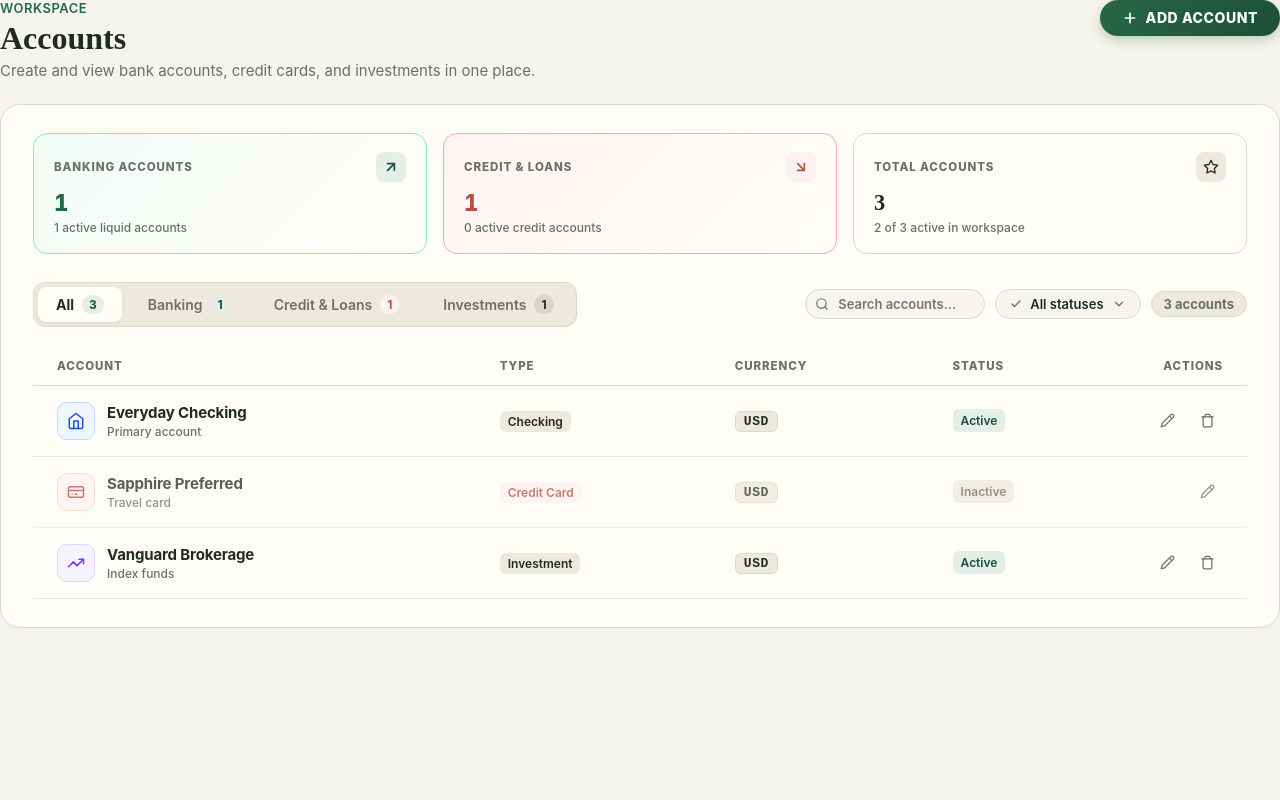
Test: AccountsView › opens Deactivate modal when Deactivate button in table is clicked
Step 1. Click the button named "Deactivate Everyday Checking" → {"x": 1207, "y": 421}, box [1191,405,1223,437]
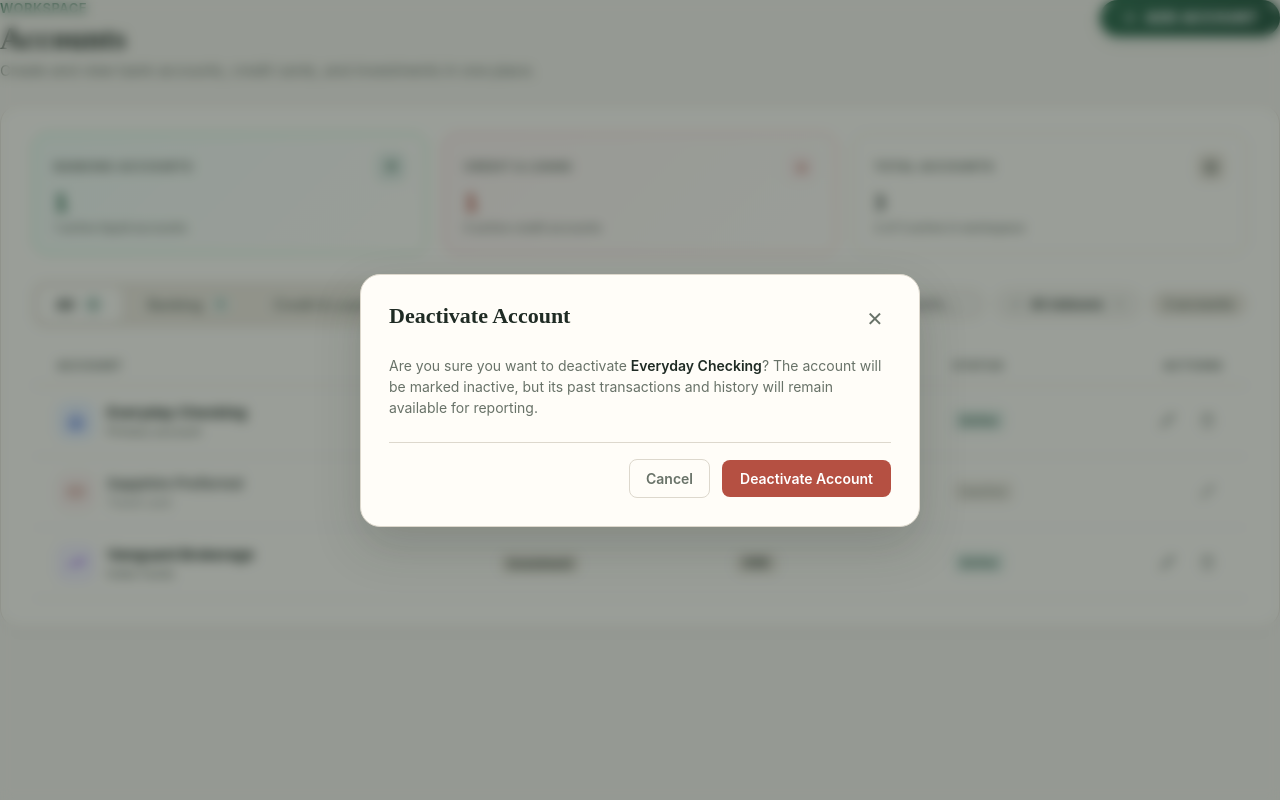
Now the dialog with test id "deactivate-account-modal" is shown, box [360,274,920,526]
Now the heading "Deactivate Account" is shown, box [389,302,570,328]
